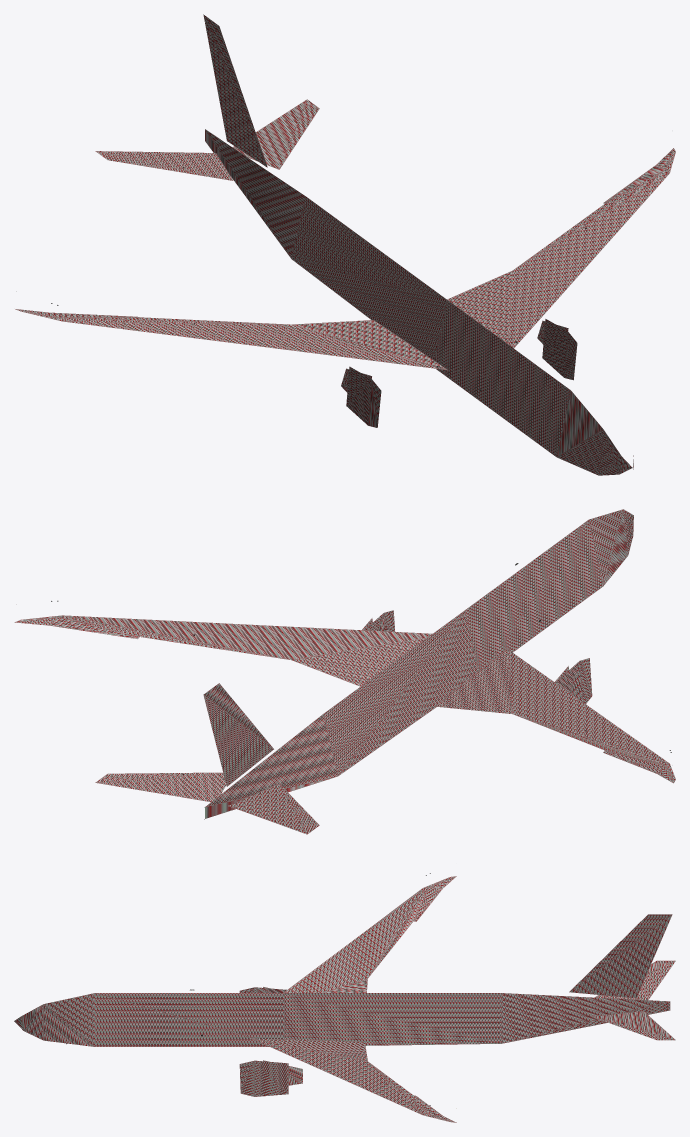
The model's file is TFS_B773RR_LOD1.gltf.
The picture shows the model from 3 angles, top to bottom: view 1: azimuth 30°, elevation 25°; view 2: azimuth 150°, elevation 25°; view 3: azimuth 270°, elevation 25°; orthographic projection. The views are drawn at different scales.
Parts seen in each view (by area): view 1: low_poly_model; view 2: low_poly_model; view 3: low_poly_model.
Part boxes in pixels (x1,y1,x2,y2): low_poly_model: (15,14,675,475); low_poly_model: (14,509,675,834); low_poly_model: (14,876,675,1122).
Bounding box in the file's own units: 65.39 × 17.6 × 74.09.
